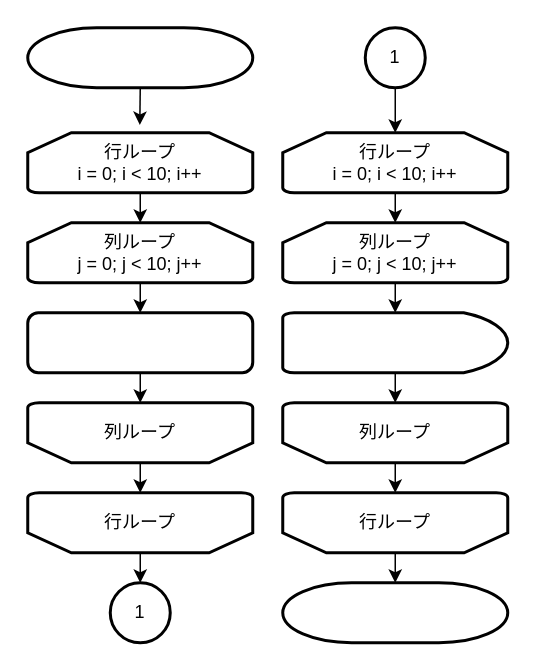
This 534x669 diagram has some shape labels left out. The shapes that lost their labels are listed below. From the top down, each one's centre as x and y in pixels, then its label:
At (140,57): "開始".
At (140,342): "h[i][j] = (i + 1)*(j + 1)".
At (394,342): "表示 h[i][j]".
At (394,612): "終了".
